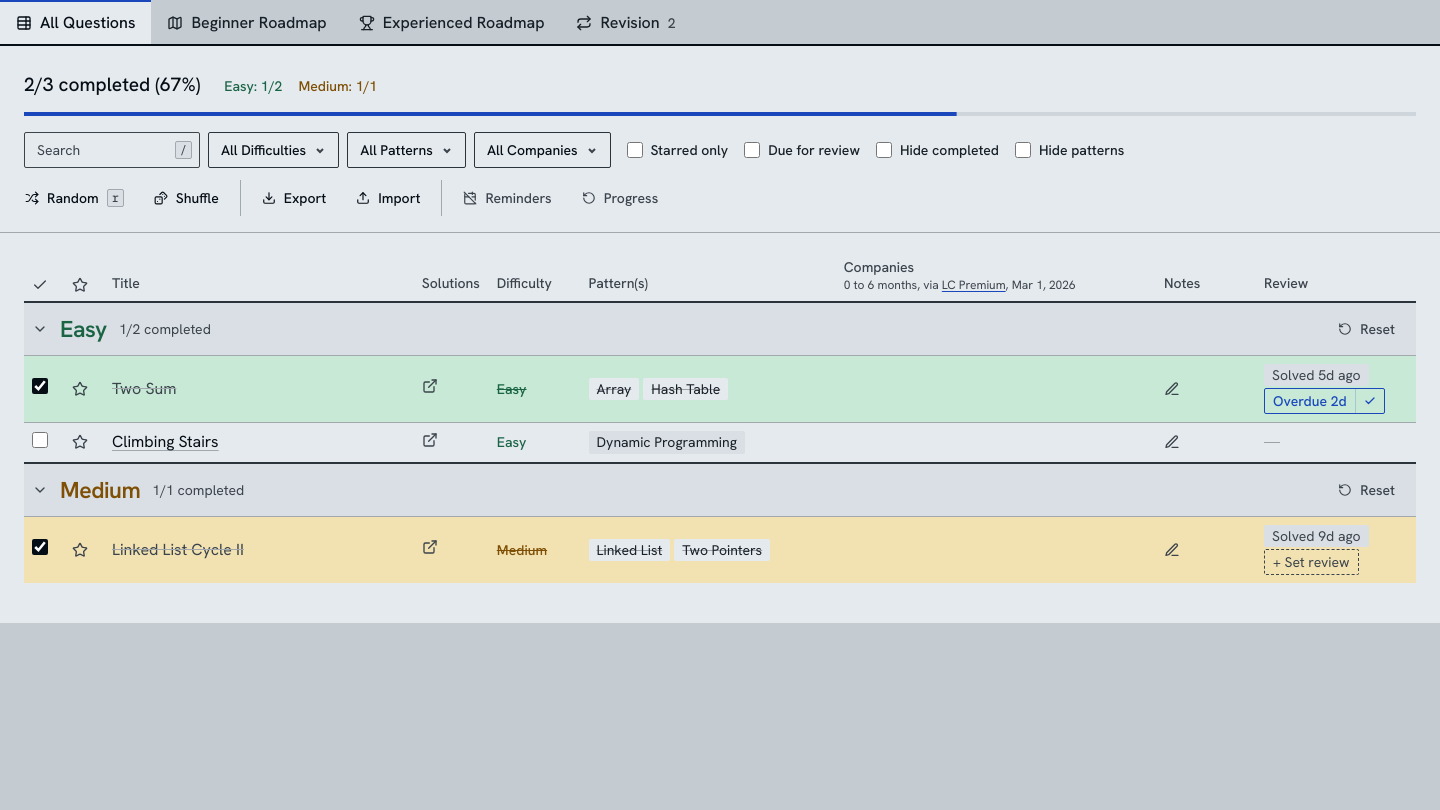
Test: Revision tab › opens the revision view and puts it in the URL
Click the button "Revision 2" at (626, 22), box [560,0,692,44]
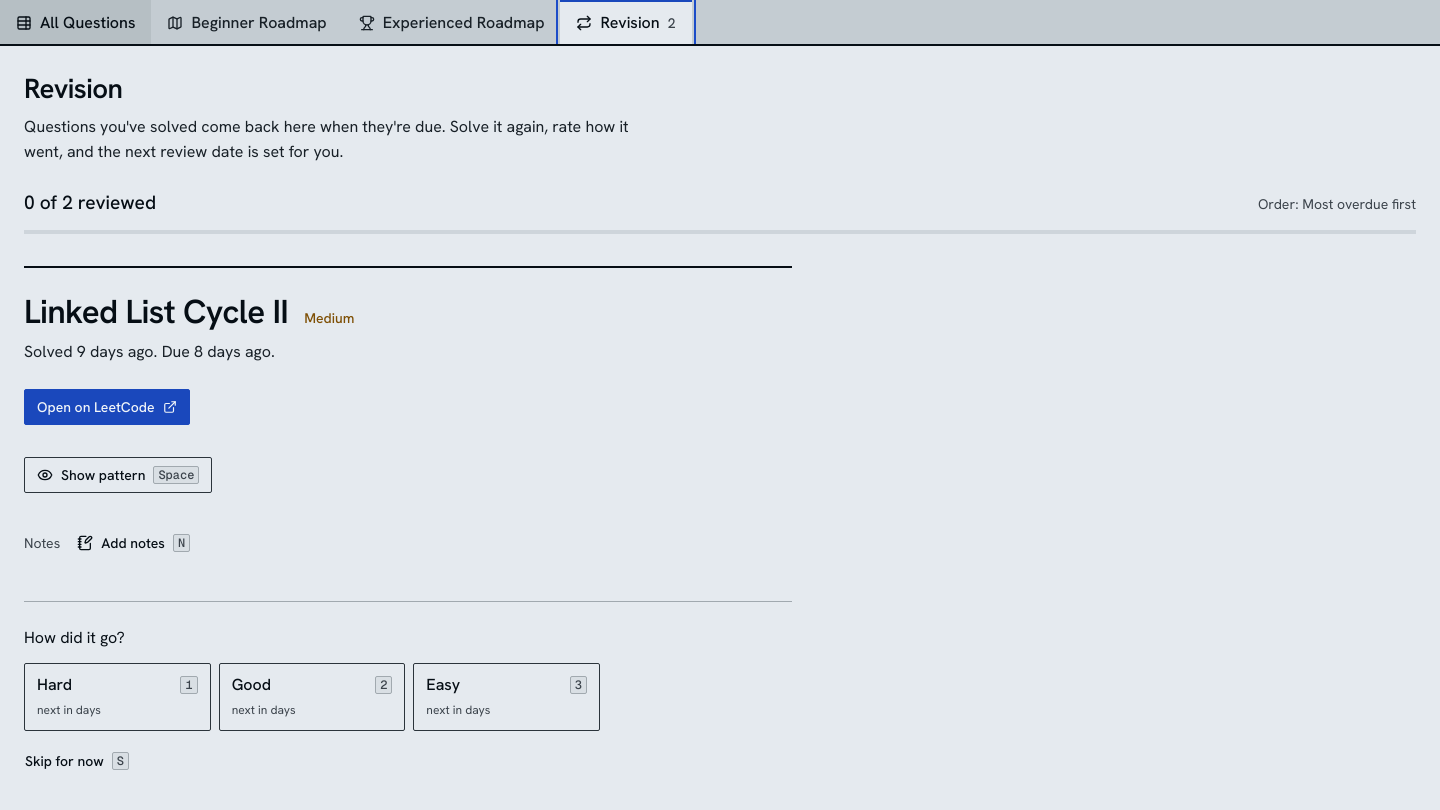
Result: the heading "Revision" is shown at [24,70,122,106]
